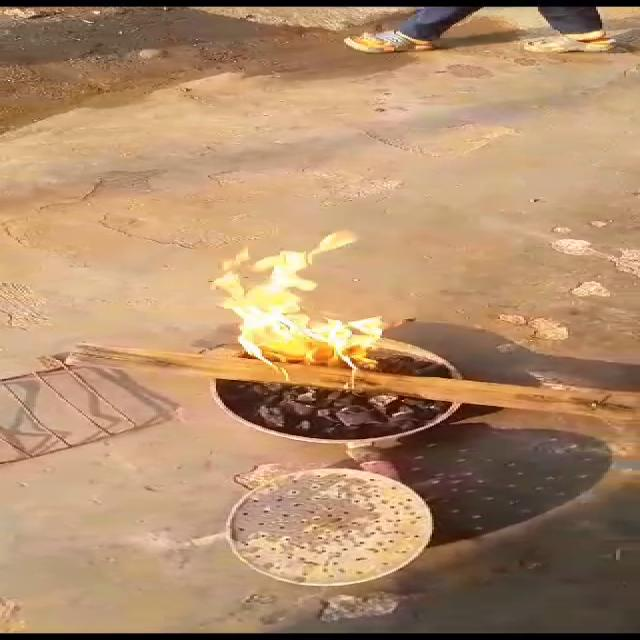Fire: (204, 226, 414, 393)
